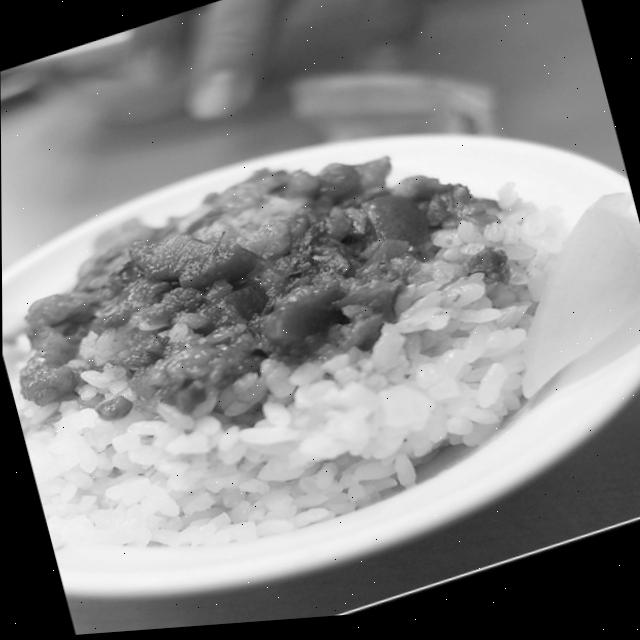猪肉菜式: (0, 36, 640, 640)
